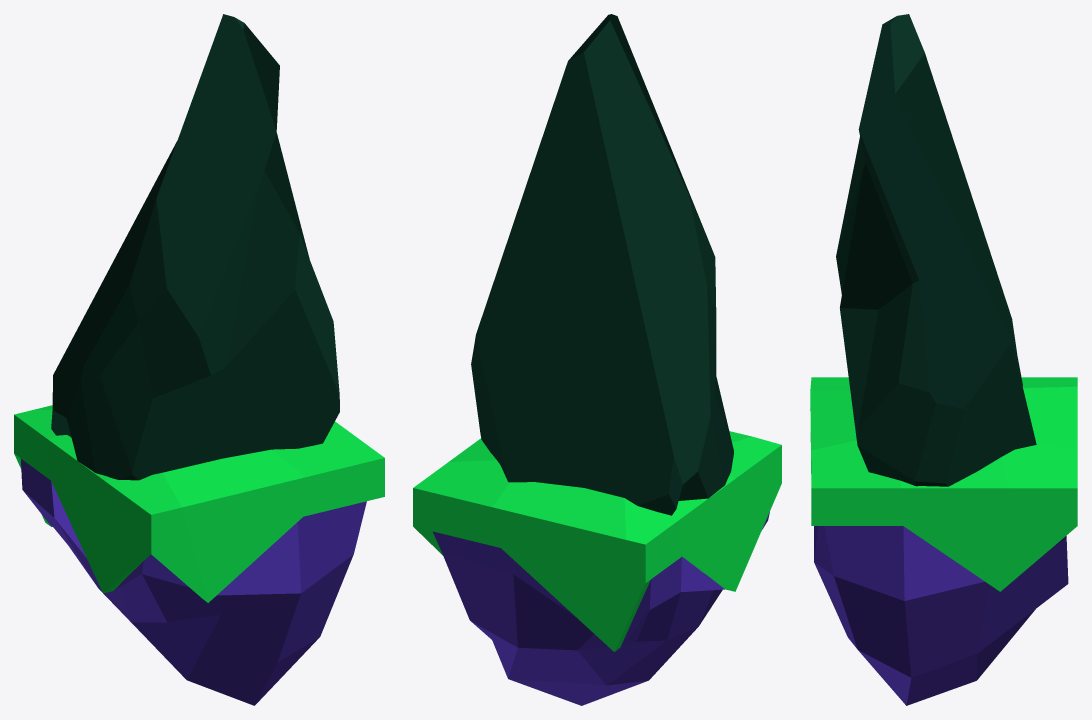
Rendered from obstacle3.fbx.
3 renders of one model, left to right at view 1: azimuth 30°, elevation 25°; view 2: azimuth 150°, elevation 25°; view 3: azimuth 270°, elevation 25°, orthographic. The views are drawn at different scales.
Visible parts, largest first — view 1: Roundcube.003; view 2: Roundcube.003; view 3: Roundcube.003.
Boxes of the visible parts, bbox=[...] form: Roundcube.003: bbox=[14, 14, 384, 705]; Roundcube.003: bbox=[413, 14, 781, 705]; Roundcube.003: bbox=[810, 14, 1077, 705].
Size of the model in its own units: 478 by 1359 by 486.
